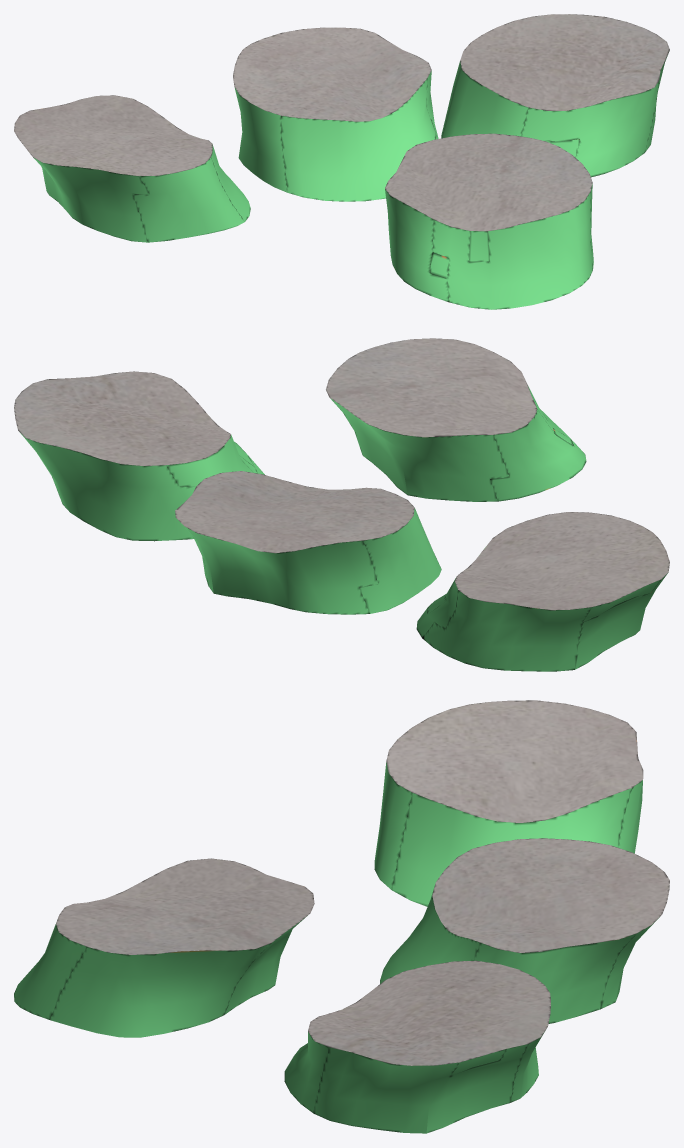
Rendered from Lontong.fbx.
3 renders of one model, top to bottom at view 1: azimuth 30°, elevation 25°; view 2: azimuth 150°, elevation 25°; view 3: azimuth 270°, elevation 25°, orthographic. The views are drawn at different scales.
Visible parts, largest first — view 1: Circle.005_Baked.011; view 2: Circle.005_Baked.011; view 3: Circle.005_Baked.011.
Boxes of the visible parts, x1,y1,x2,y2 form: Circle.005_Baked.011: (14, 14, 669, 309); Circle.005_Baked.011: (14, 338, 669, 671); Circle.005_Baked.011: (14, 700, 669, 1133).
Bounding box in the file's own units: 151 × 20.2 × 115.
Materials: 1 (1 with a texture image).
